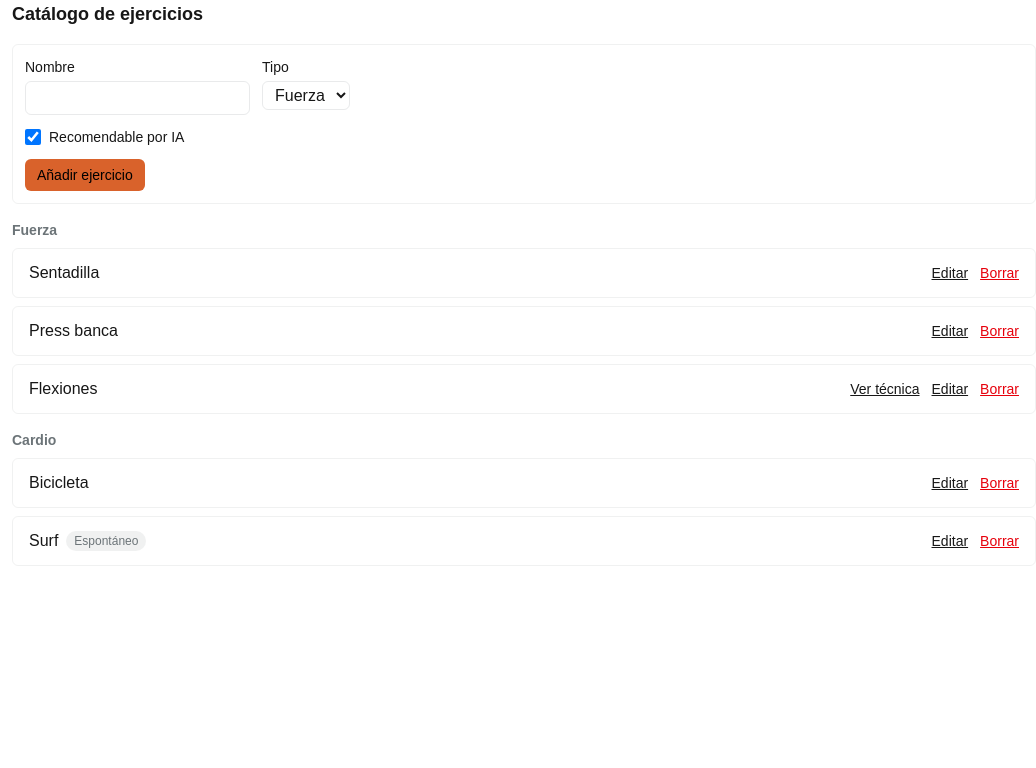
Test: ExercisesSection › muestra el formulario de edición prefilled al pulsar Editar, y vuelve a la lista al pulsar Cancelar
The width and height of the screenshot is (1036, 768).
Click the button "Editar" in the row of "Sentadilla": (950, 273) [932,263,968,283]
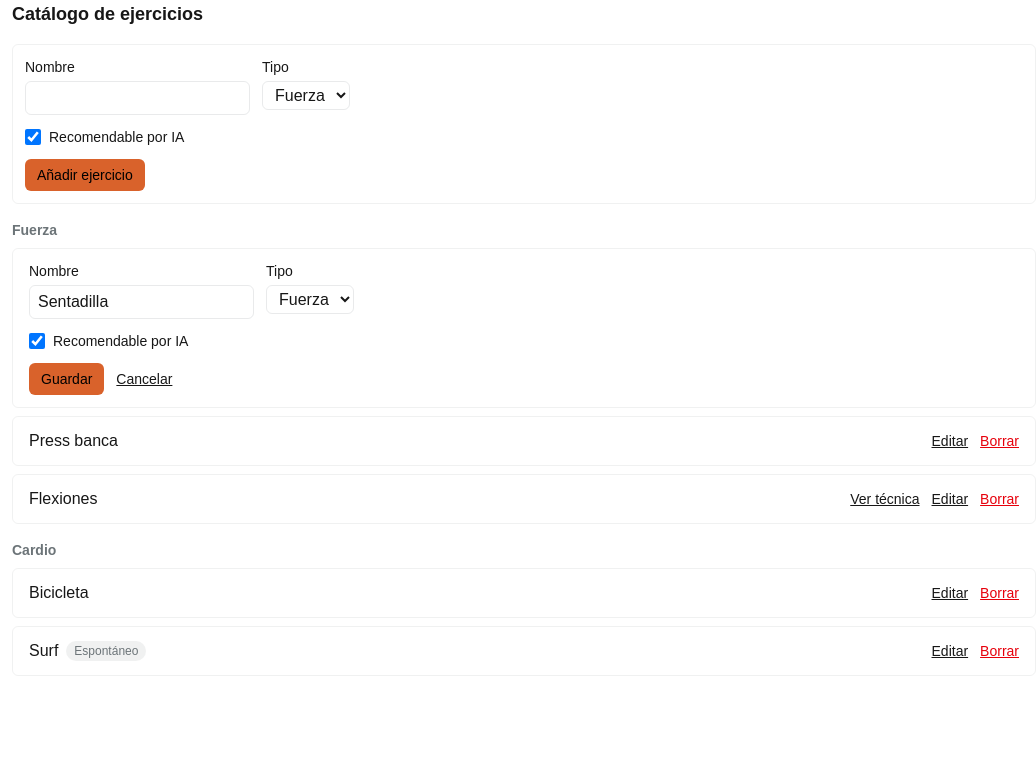
Expected: the field labelled "Nombre" below "Fuerza" holds "Sentadilla", [29,285,254,319]
Expected: the dropdown labelled "Tipo" below "Fuerza" shows "Fuerza", [266,285,354,314]
Expected: the checkbox labelled "Recomendable por IA" below "Fuerza" is checked, [29,333,45,349]
Click the button "Cancelar": (144, 379) [116,363,172,395]
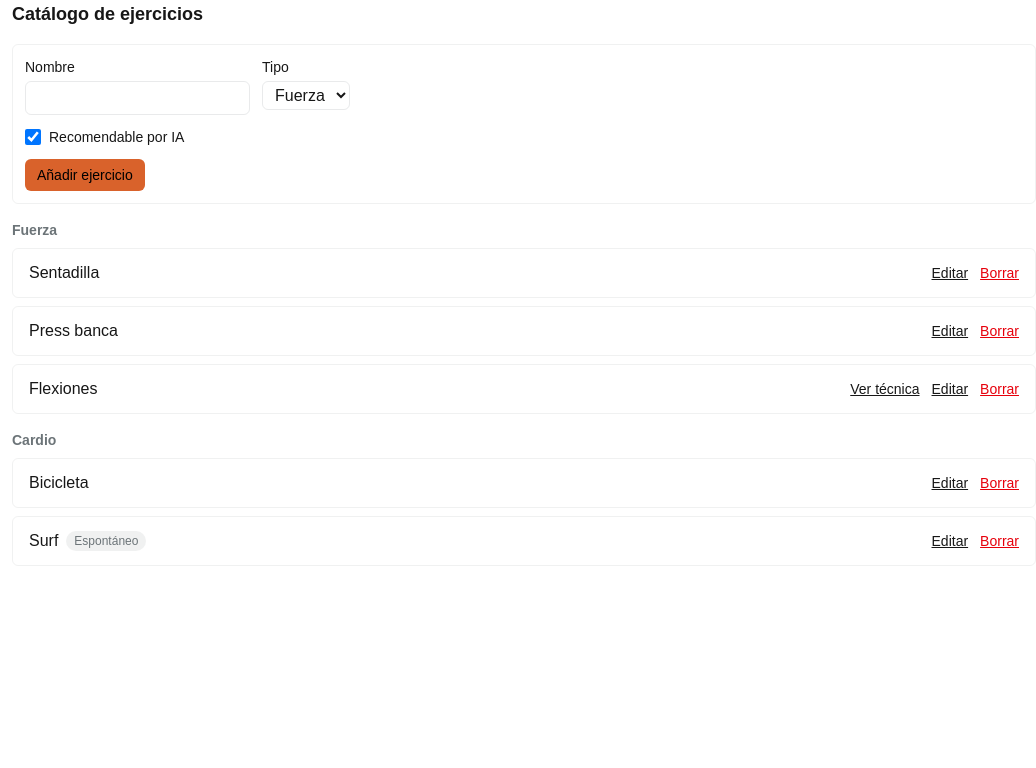
Expected: the text "Sentadilla" is shown, [29,261,99,285]
